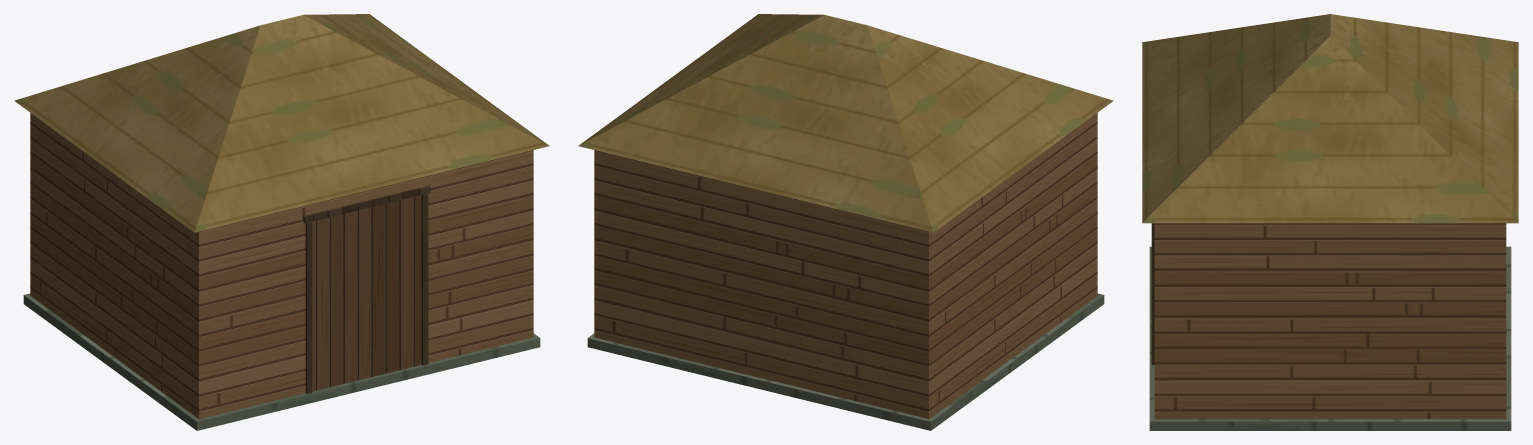
The model's file is house_booth.glb.
3 renders of one model, left to right at view 1: azimuth 30°, elevation 25°; view 2: azimuth 150°, elevation 25°; view 3: azimuth 270°, elevation 25°, orthographic. The views are drawn at different scales.
Visible parts, largest first — view 1: ae_jungle_house_booth; view 2: ae_jungle_house_booth; view 3: ae_jungle_house_booth.
Part boxes in pixels (box(x1,y1,x2,y2)): ae_jungle_house_booth: box(14, 14, 549, 430); ae_jungle_house_booth: box(578, 14, 1113, 430); ae_jungle_house_booth: box(1142, 14, 1518, 430).
Size of the model in its own units: 4.14 by 3.4 by 3.64.
Materials: 1 (1 with a texture image).
